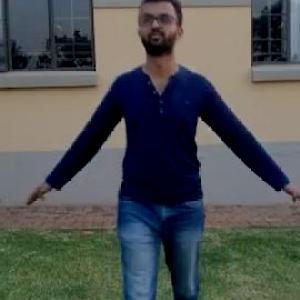land: (18, 0, 299, 299)
